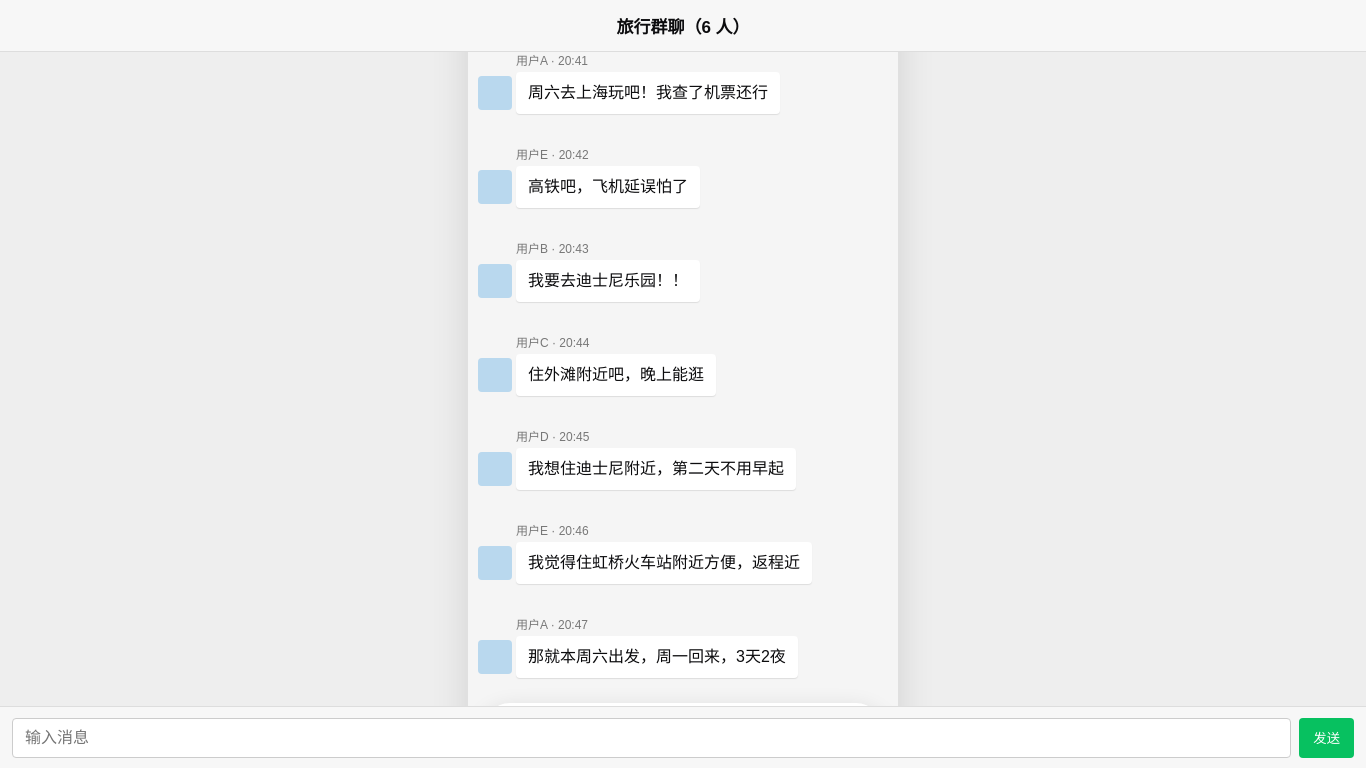
Test case: App › 群聊旅行页面 › 长按消息进入多选模式并默认选中该消息
Step 1. Press the mouse on the element named "消息" → (648, 93), box [516,72,780,114]
Wait 300 ms
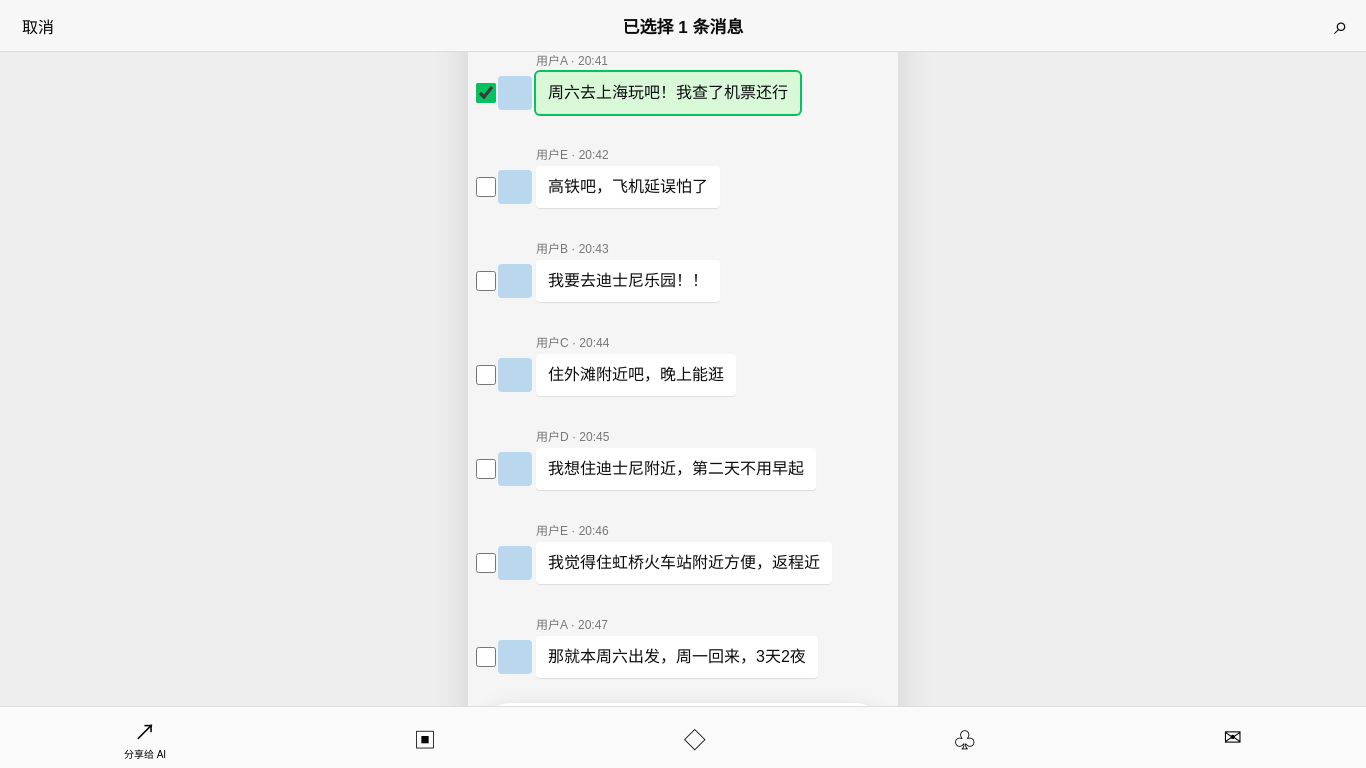
Now the text "已选择 1 条消息" is shown, box [622,13,743,38]
Now the checkbox named "选择消息" next to "周六去上海玩吧！我查了机票还行" is checked, box [476,83,496,103]
